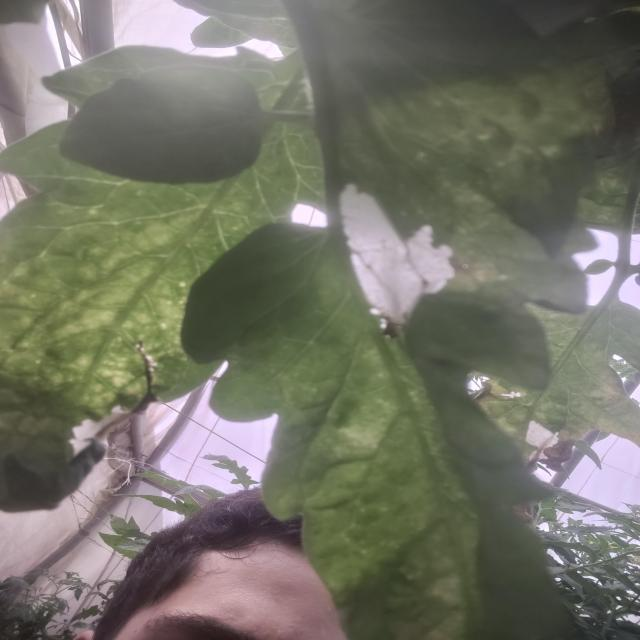Tuta absoluta: (292, 163, 468, 340)
